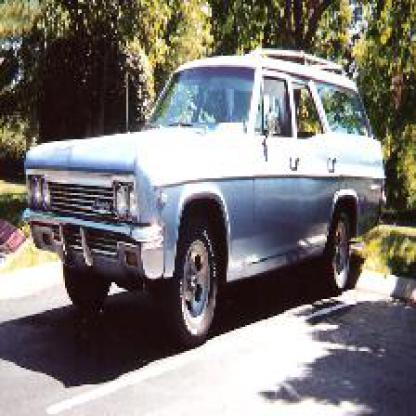not_emergency: (19, 30, 401, 354)
